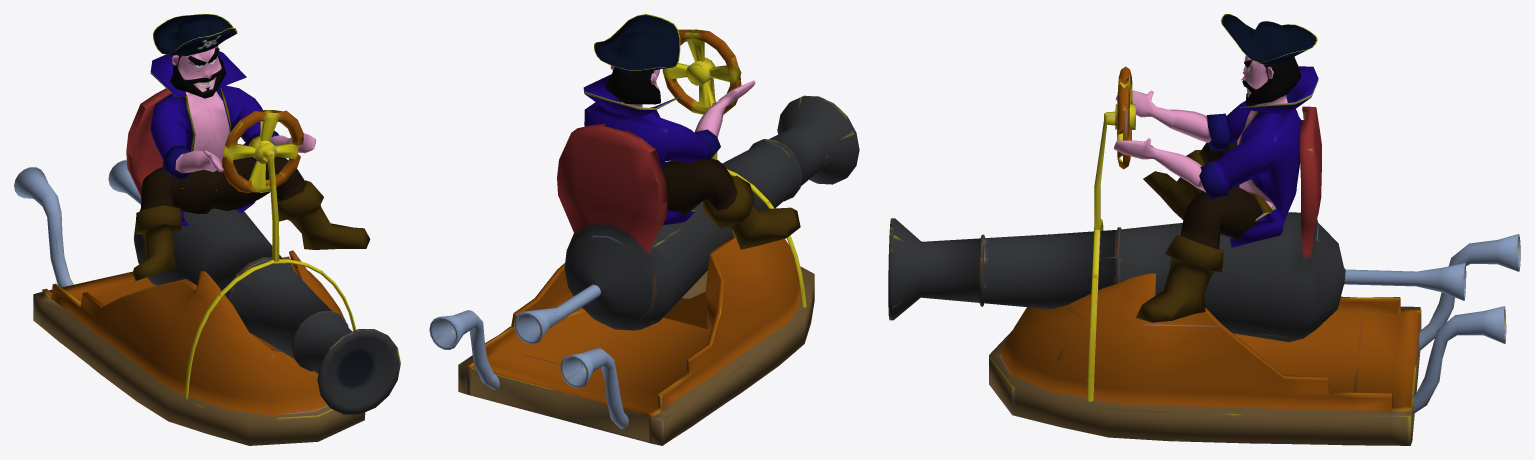
The model's file is pirataGiroIzq_000162.obj.
3 renders of one model, left to right at view 1: azimuth 30°, elevation 25°; view 2: azimuth 150°, elevation 25°; view 3: azimuth 270°, elevation 25°, orthographic. The views are drawn at different scales.
Visible parts, largest first — view 1: carro_pirata_carro_pirata.001, Pirata_PirataH_Pirata_PirataH.001; view 2: carro_pirata_carro_pirata.001, Pirata_PirataH_Pirata_PirataH.001; view 3: carro_pirata_carro_pirata.001, Pirata_PirataH_Pirata_PirataH.001.
Boxes of the visible parts, x1,y1,x2,y2 form: carro_pirata_carro_pirata.001: [14, 88, 400, 445]; Pirata_PirataH_Pirata_PirataH.001: [132, 14, 370, 280]; carro_pirata_carro_pirata.001: [429, 29, 859, 445]; Pirata_PirataH_Pirata_PirataH.001: [583, 14, 800, 249]; carro_pirata_carro_pirata.001: [888, 66, 1520, 445]; Pirata_PirataH_Pirata_PirataH.001: [1113, 14, 1318, 322].
Bounding box in the file's own units: 5.66 × 7.73 × 12.1.
Materials: 2 (2 with a texture image).
